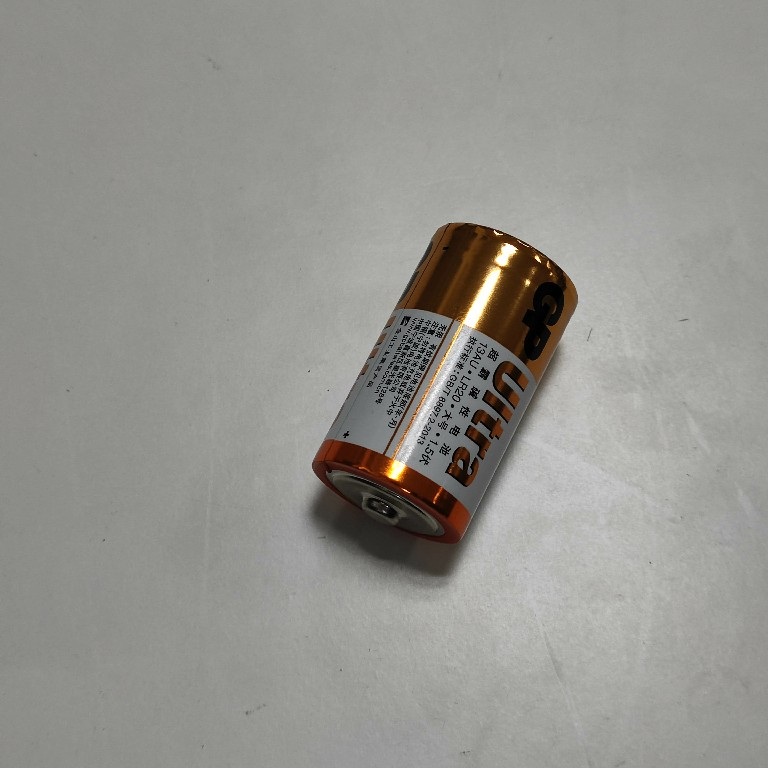charge: (308, 220, 579, 548)
